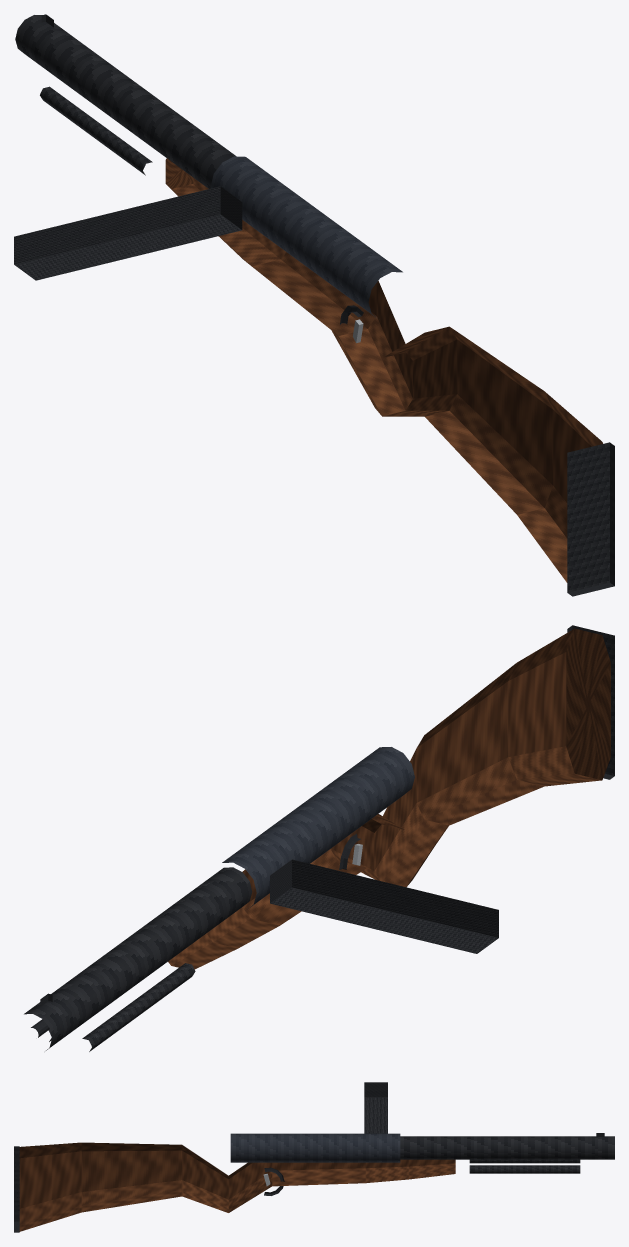
The picture shows the model from 3 angles, top to bottom: view 1: azimuth 30°, elevation 25°; view 2: azimuth 150°, elevation 25°; view 3: azimuth 270°, elevation 25°; orthographic projection. The views are drawn at different scales.
Parts seen in each view (by area): view 1: WeaponMesh; view 2: WeaponMesh; view 3: WeaponMesh.
Part boxes in pixels (left/top/right/bottom): WeaponMesh: left=14, top=14, right=614, bottom=596; WeaponMesh: left=24, top=625, right=614, bottom=1051; WeaponMesh: left=14, top=1082, right=614, bottom=1232.
Size of the model in its own units: 0.2315 by 0.151 by 0.868.
Materials: 4 (4 with a texture image).
